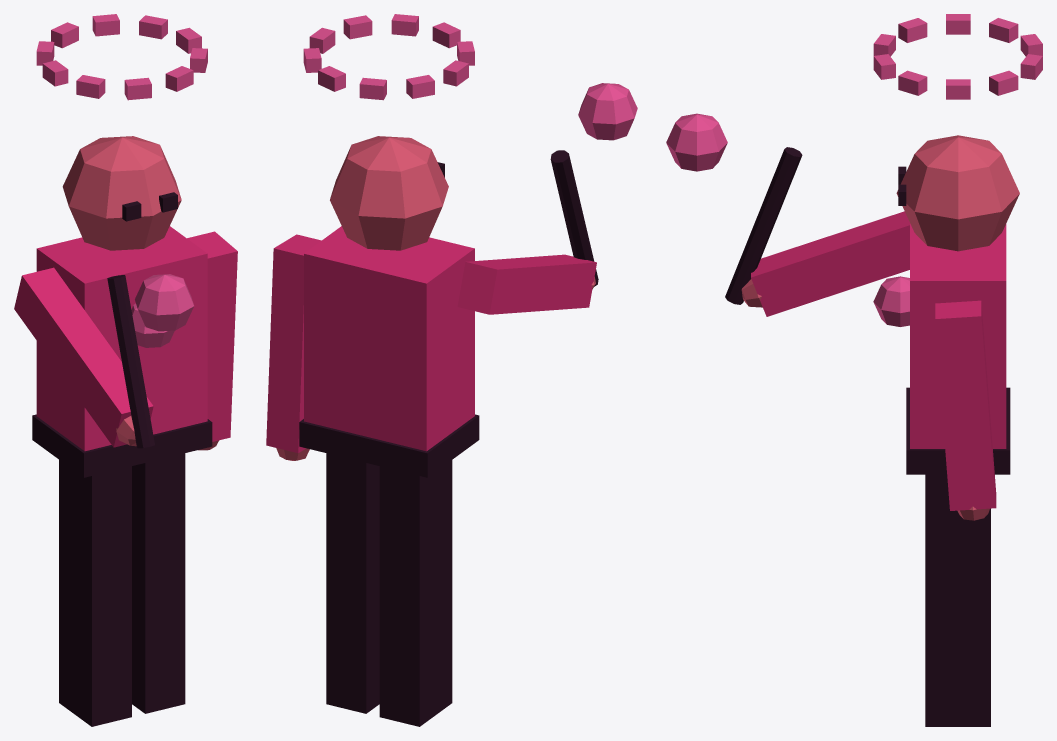
The model's file is SM_Champion_9008_Astra.glb.
3 views of the same model, side by side, from view 1: azimuth 30°, elevation 25°; view 2: azimuth 150°, elevation 25°; view 3: azimuth 270°, elevation 25° (orthographic).
Parts seen in each view (by area): view 1: SM_Champion_9008_Astra; view 2: SM_Champion_9008_Astra; view 3: SM_Champion_9008_Astra.
Part boxes in pixels (x1=…): SM_Champion_9008_Astra: x1=14, y1=14, x2=237, y2=726; SM_Champion_9008_Astra: x1=266, y1=14, x2=637, y2=726; SM_Champion_9008_Astra: x1=666, y1=14, x2=1042, y2=726.
Bounding box in the file's own units: 0.5762 × 1.63 × 0.852.
